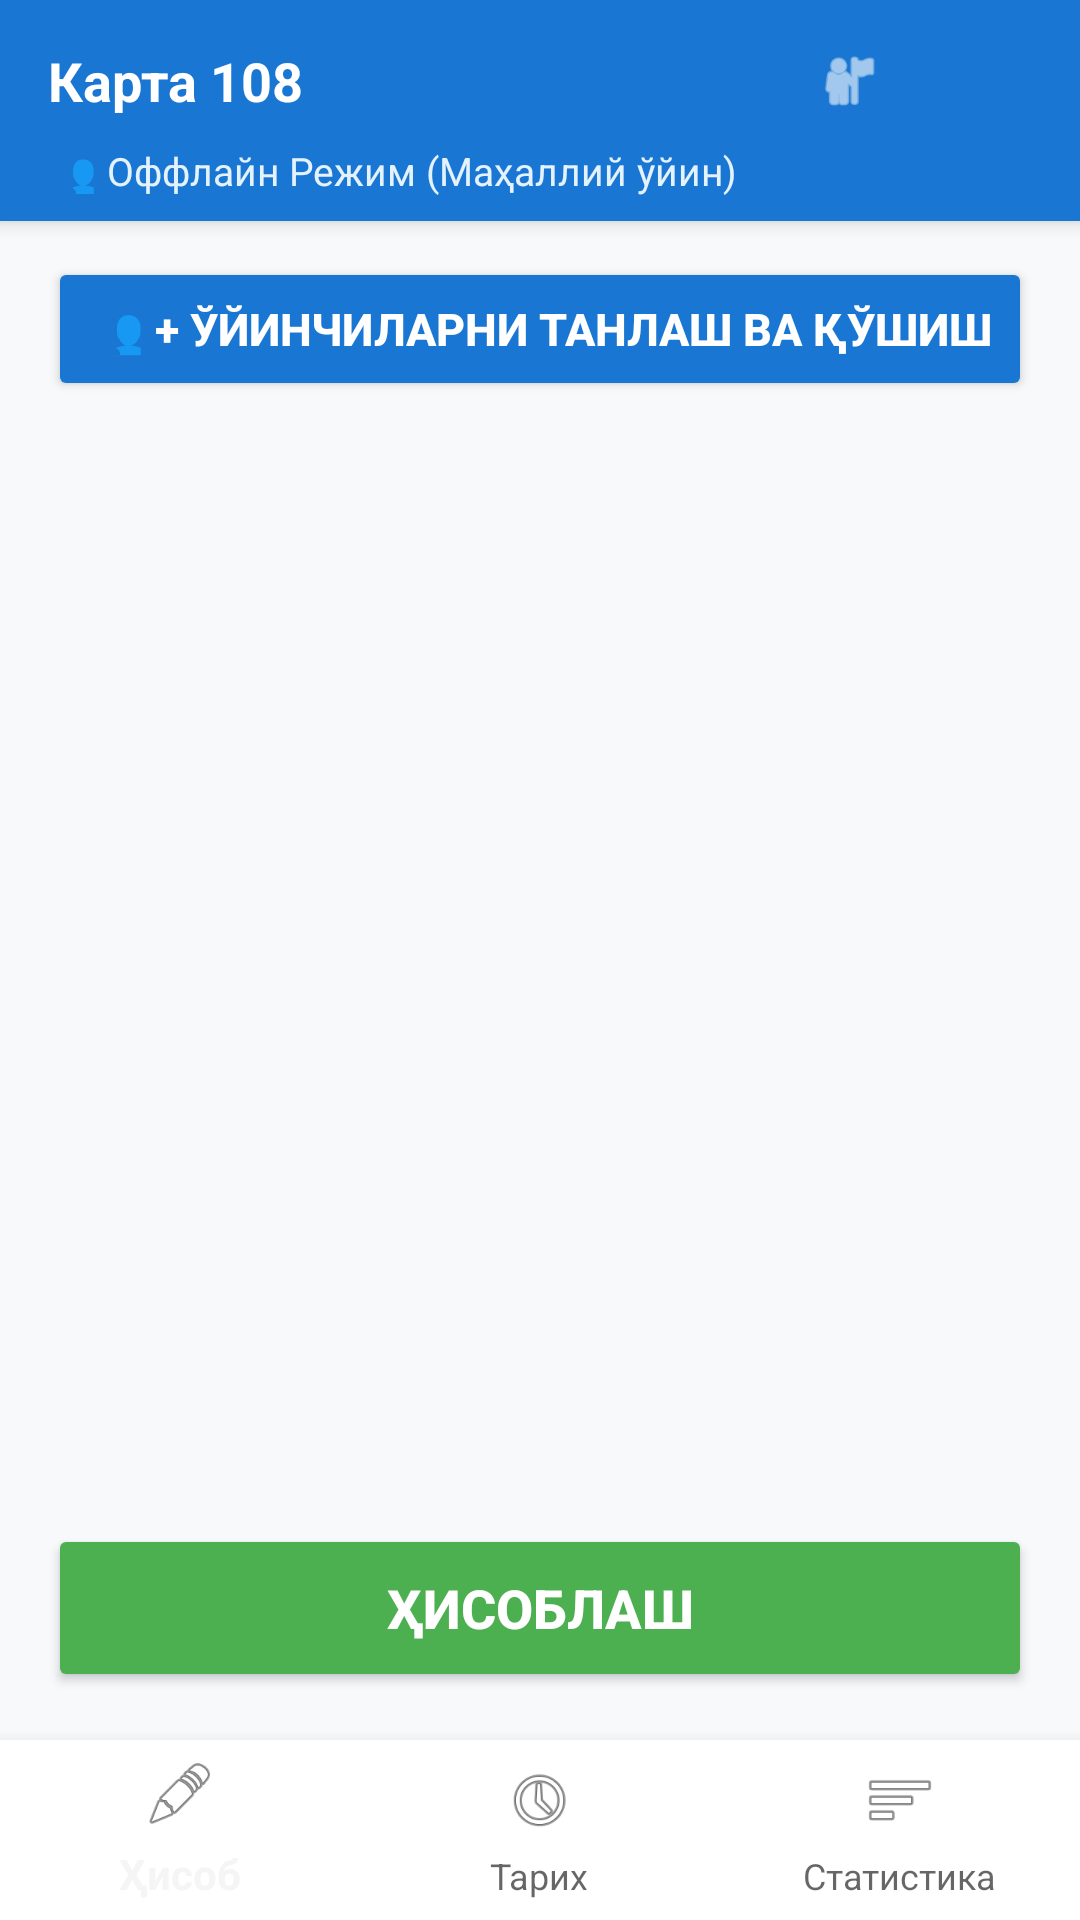

Icons on this 1080 x 1920 Android screen, each with its box as (x1, y1, x2, y2):
myplaces: (825, 56, 875, 106)
